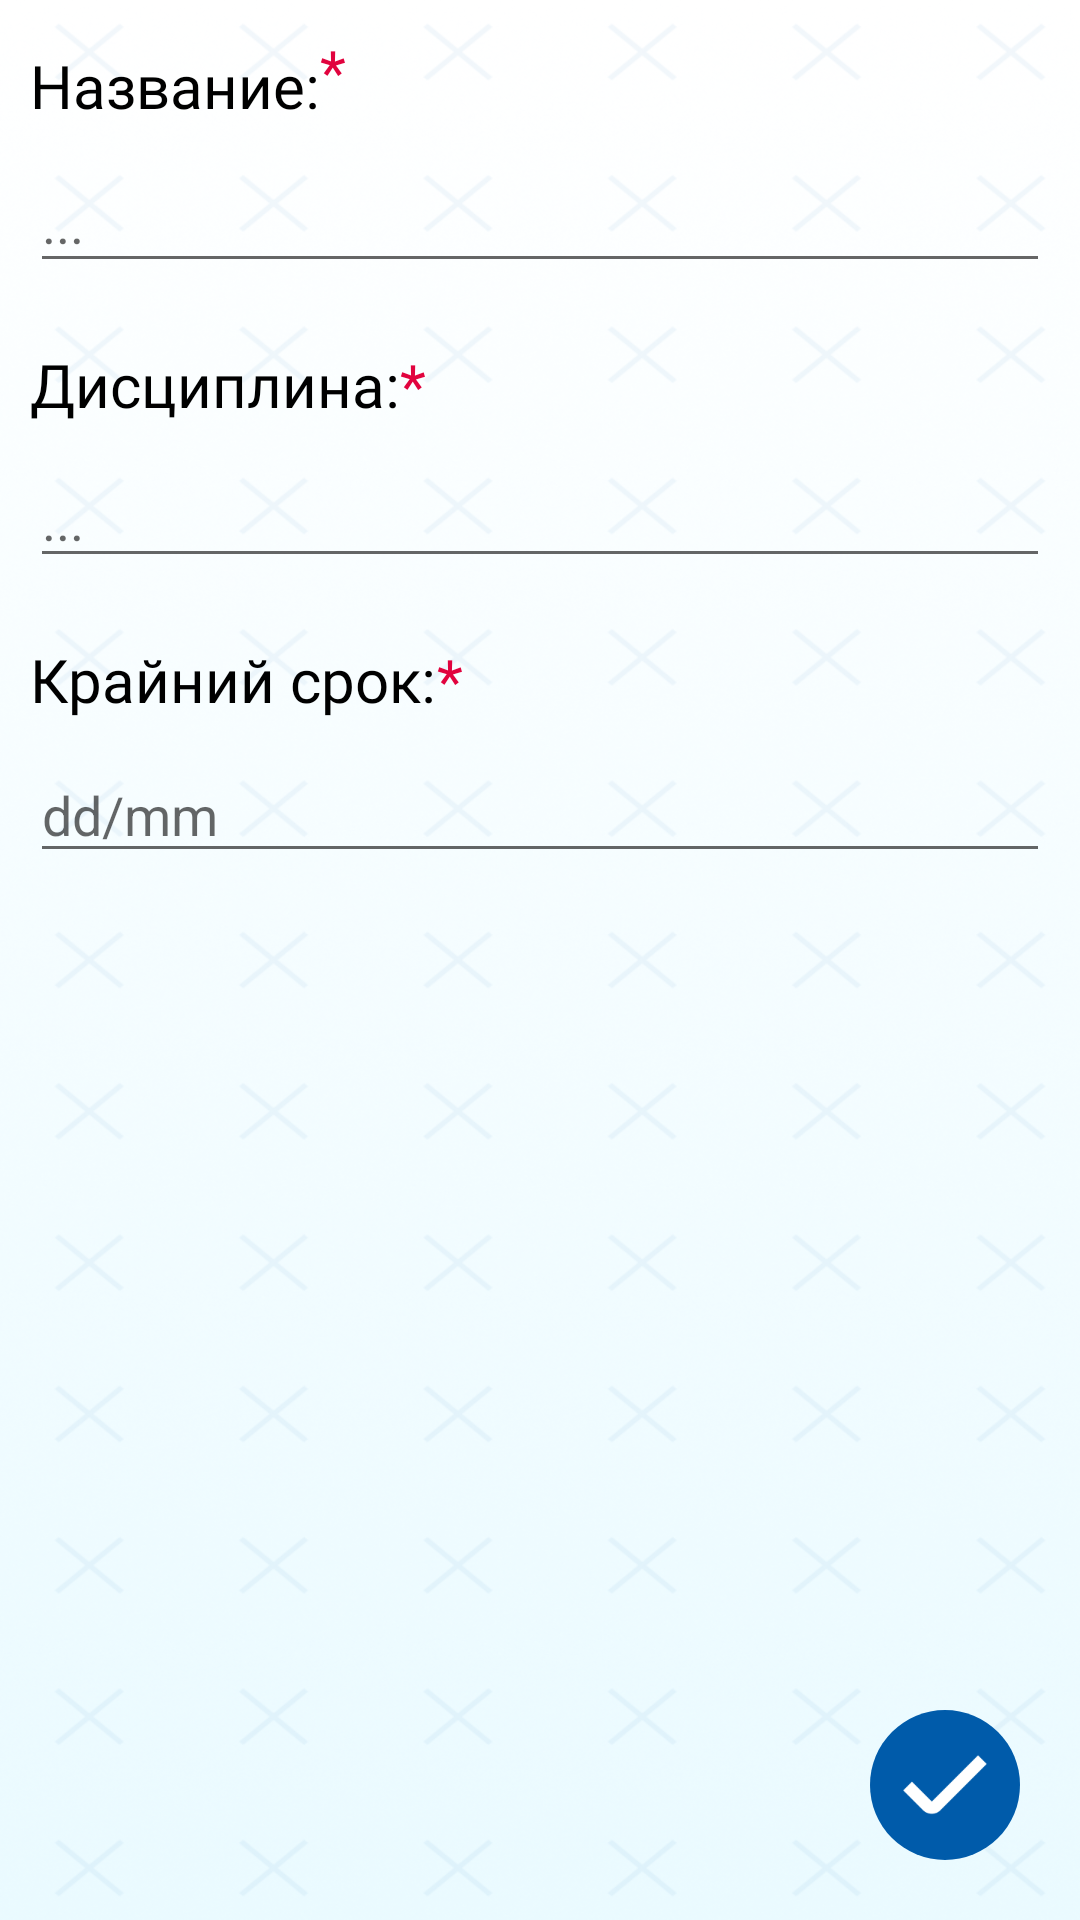

Screen size 1080px×1920px. Icon name, then its center in pixels as (x,y):
check: (945,1785)
